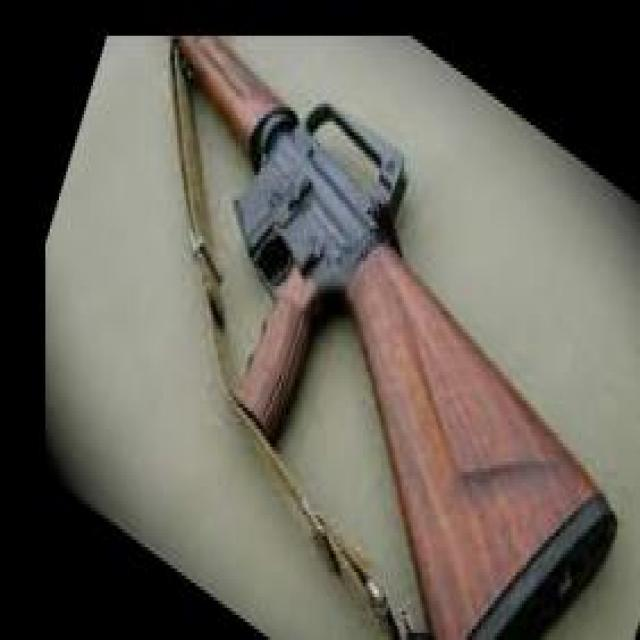weapon: (172, 37, 618, 640)
